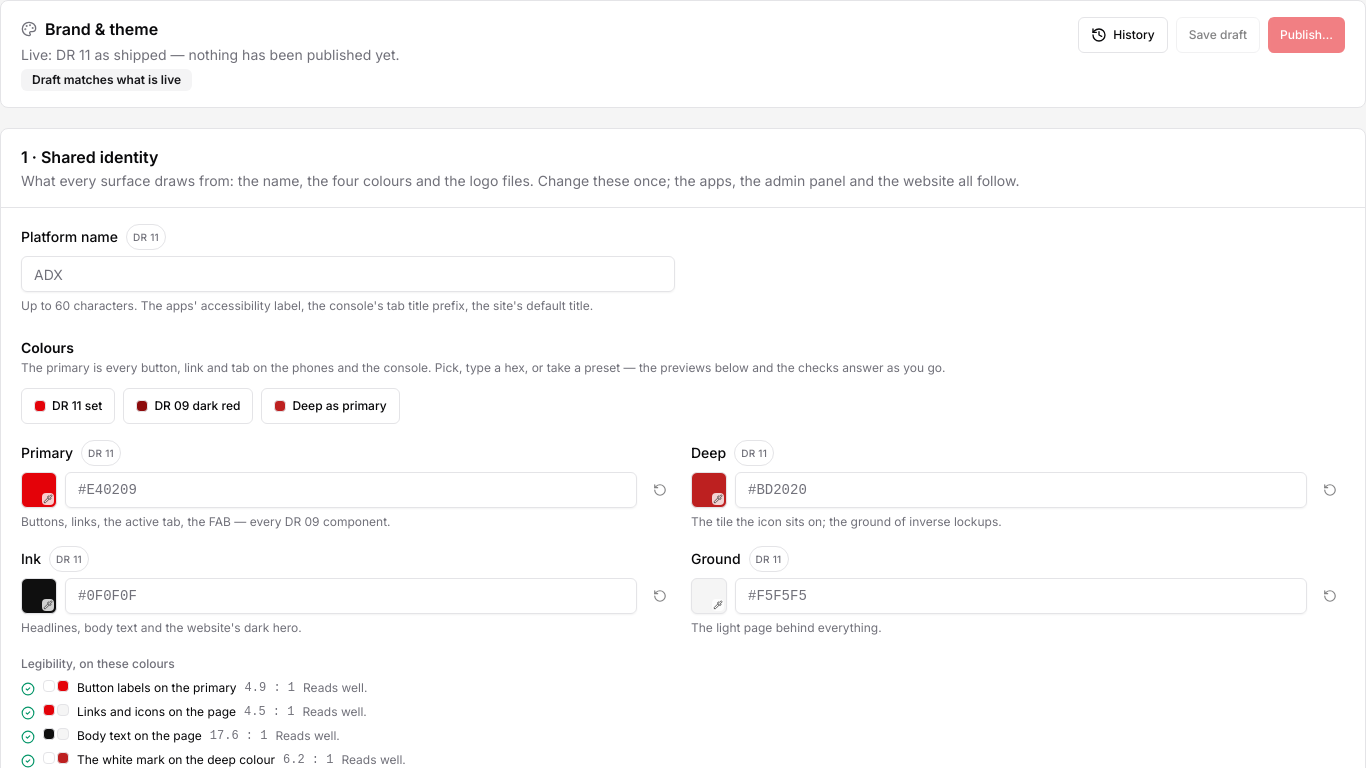
Test: the colours › the picker, the presets and the reset write the form; the previews and the checks follow before any save
Expected: the element with test id "brand-presets" is shown, top-left (21, 388), bottom-right (400, 424)
Note: The DR 09 preset.
Step 1. Click the button with test id "brand-preset-dr09" → coordinates (188, 406), box top-left (123, 388), bottom-right (253, 424)
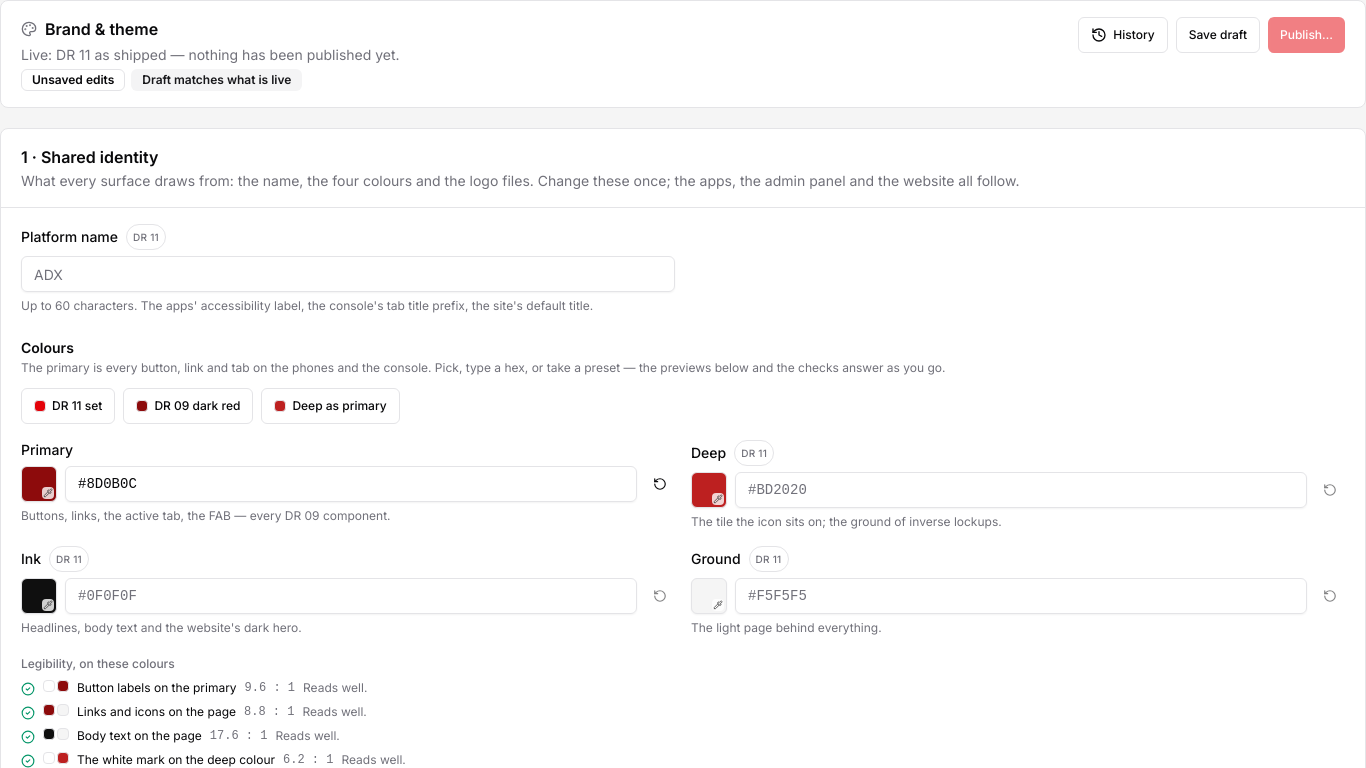
Now the field named "Primary colour" holds "#8D0B0C", box top-left (65, 466), bottom-right (637, 502)
Now the text "Unsaved edits" is shown, box top-left (21, 69), bottom-right (125, 91)
Note: The picker on the swatch.
Step 2. Type "#f7c6c7" into the colour field with test id "brand-pick-primaryColor" → coordinates (348, 485), box top-left (21, 440), bottom-right (675, 530)
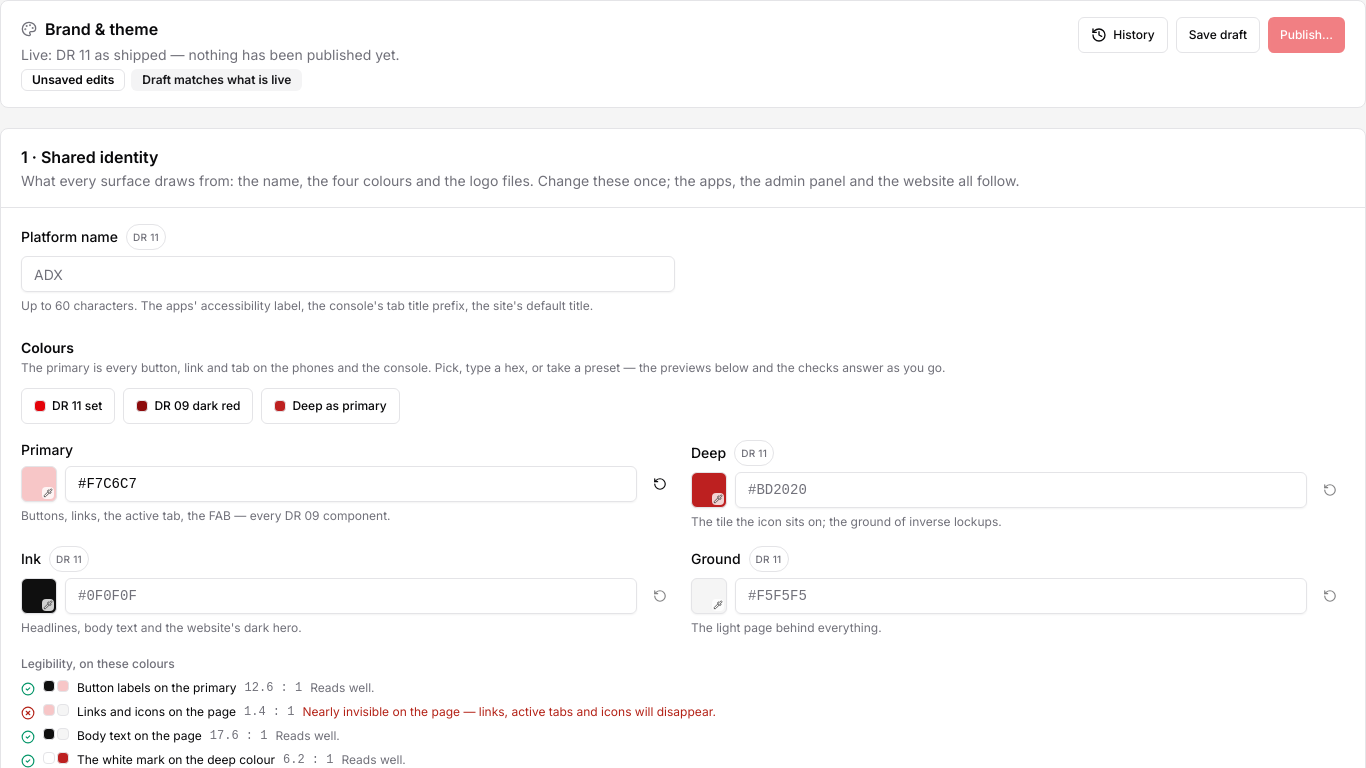
Now the field named "Primary colour" holds "#F7C6C7", box top-left (65, 466), bottom-right (637, 502)
Note: The per-colour reset back to DR 11.
Step 3. Click the button with test id "brand-reset-primaryColor" → coordinates (660, 484), box top-left (645, 468), bottom-right (675, 500)
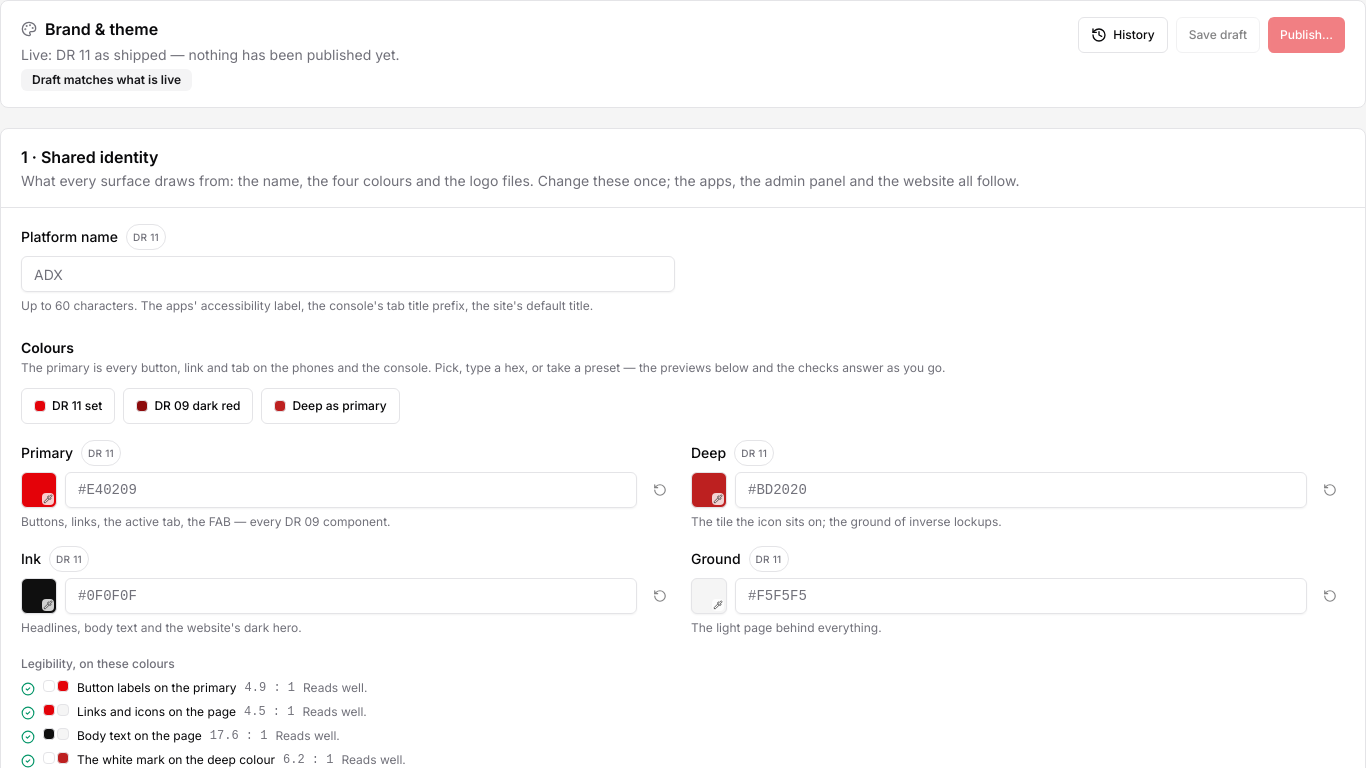
Now the field named "Primary colour" is empty, box top-left (65, 472), bottom-right (637, 508)
Now the button with test id "brand-reset-primaryColor" is disabled, box top-left (645, 474), bottom-right (675, 506)
Note: "Deep as primary" takes the effective deep colour.
Step 4. Click the button with test id "brand-preset-deep" → coordinates (330, 406), box top-left (261, 388), bottom-right (400, 424)
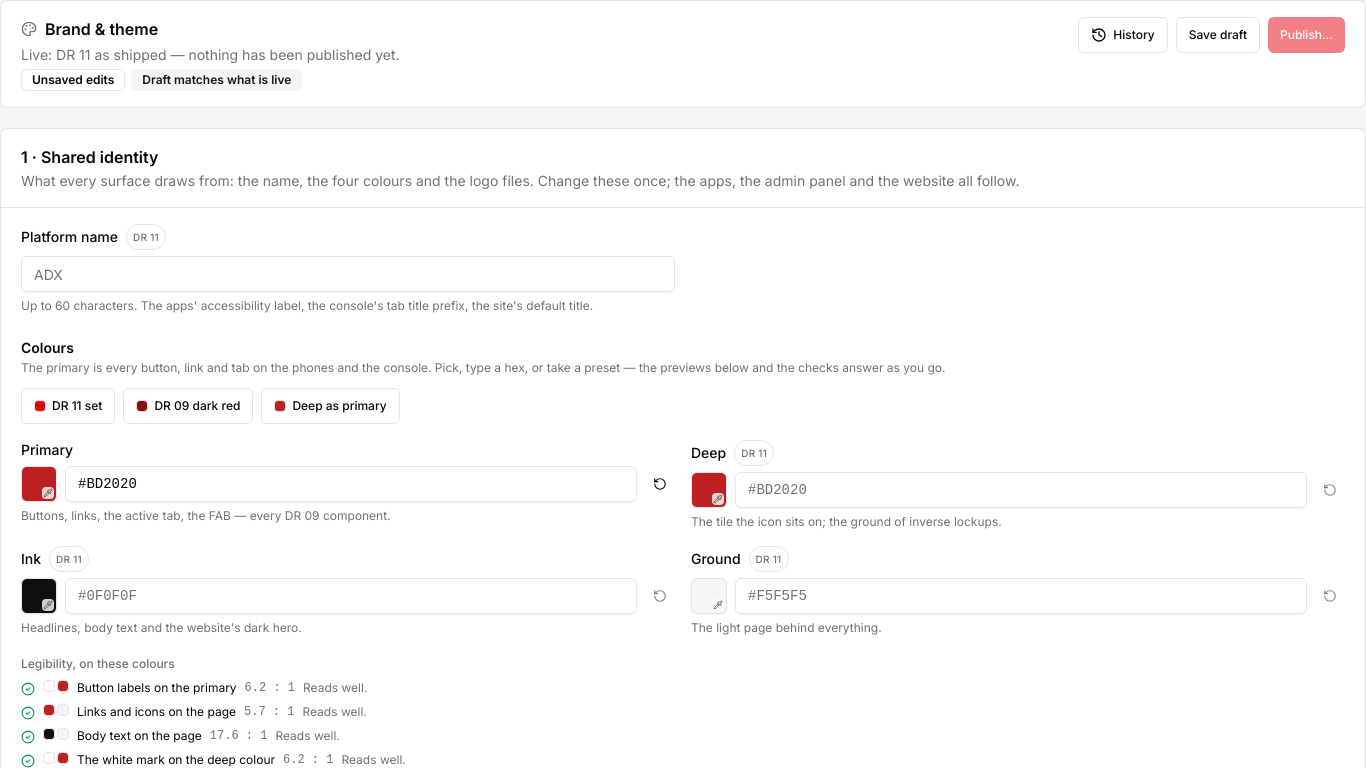
Now the field named "Primary colour" holds "#BD2020", box top-left (65, 466), bottom-right (637, 502)
Note: The DR 11 set clears all four.
Step 5. Type "#333333" into the field named "Ink colour" → coordinates (351, 596), box top-left (65, 578), bottom-right (637, 614)
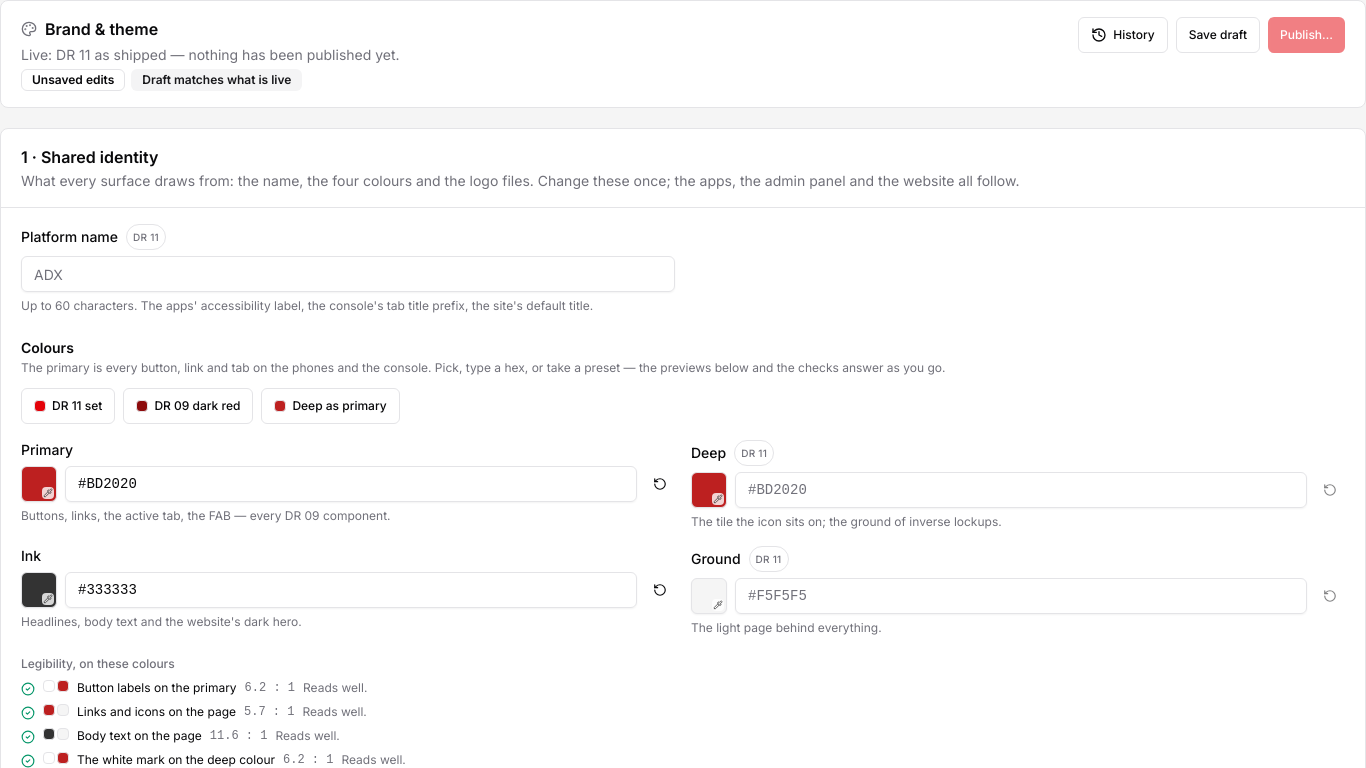
Step 6. Click the button with test id "brand-preset-dr11" → coordinates (68, 406), box top-left (21, 388), bottom-right (115, 424)
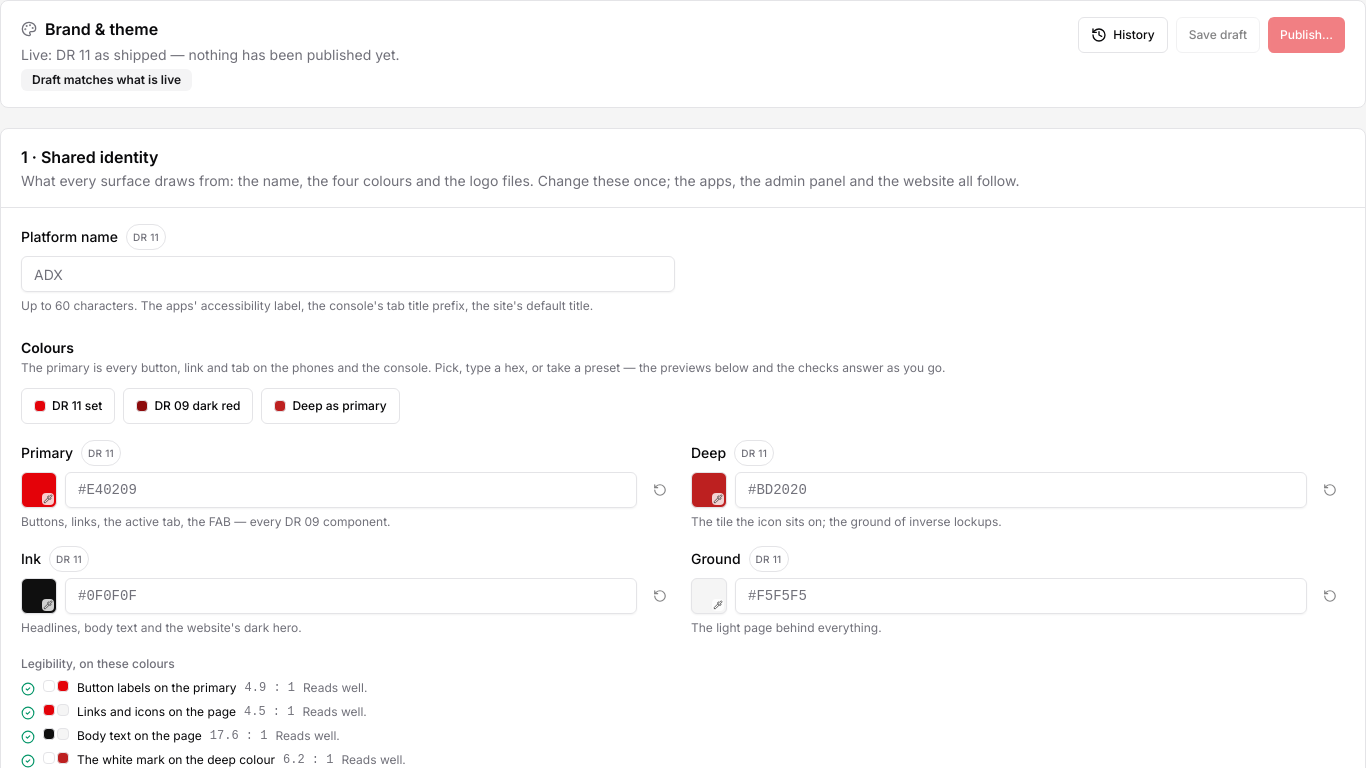
Expected: the field named "Deep colour" is empty, top-left (735, 472), bottom-right (1307, 508)
Now the field named "Primary colour" is empty, box top-left (65, 472), bottom-right (637, 508)
Now the field named "Ink colour" is empty, box top-left (65, 578), bottom-right (637, 614)
